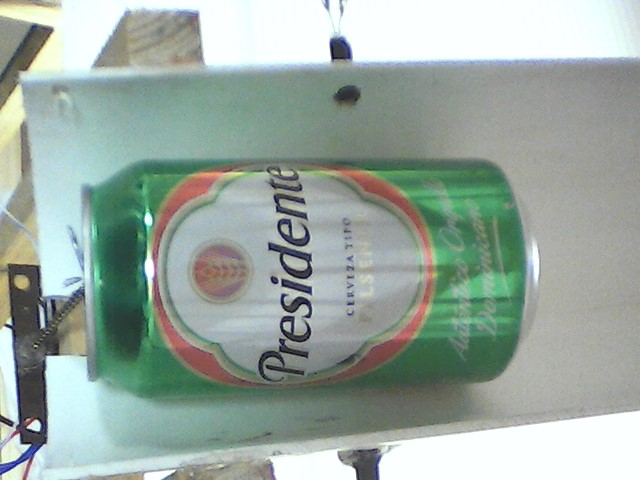lata: (79, 155, 546, 399)
